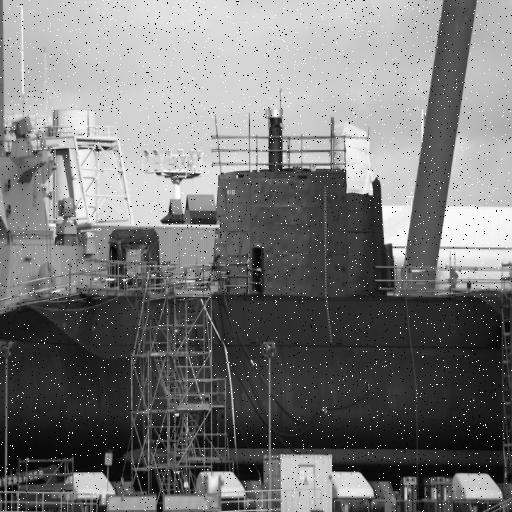submarine: (1, 106, 512, 486)
